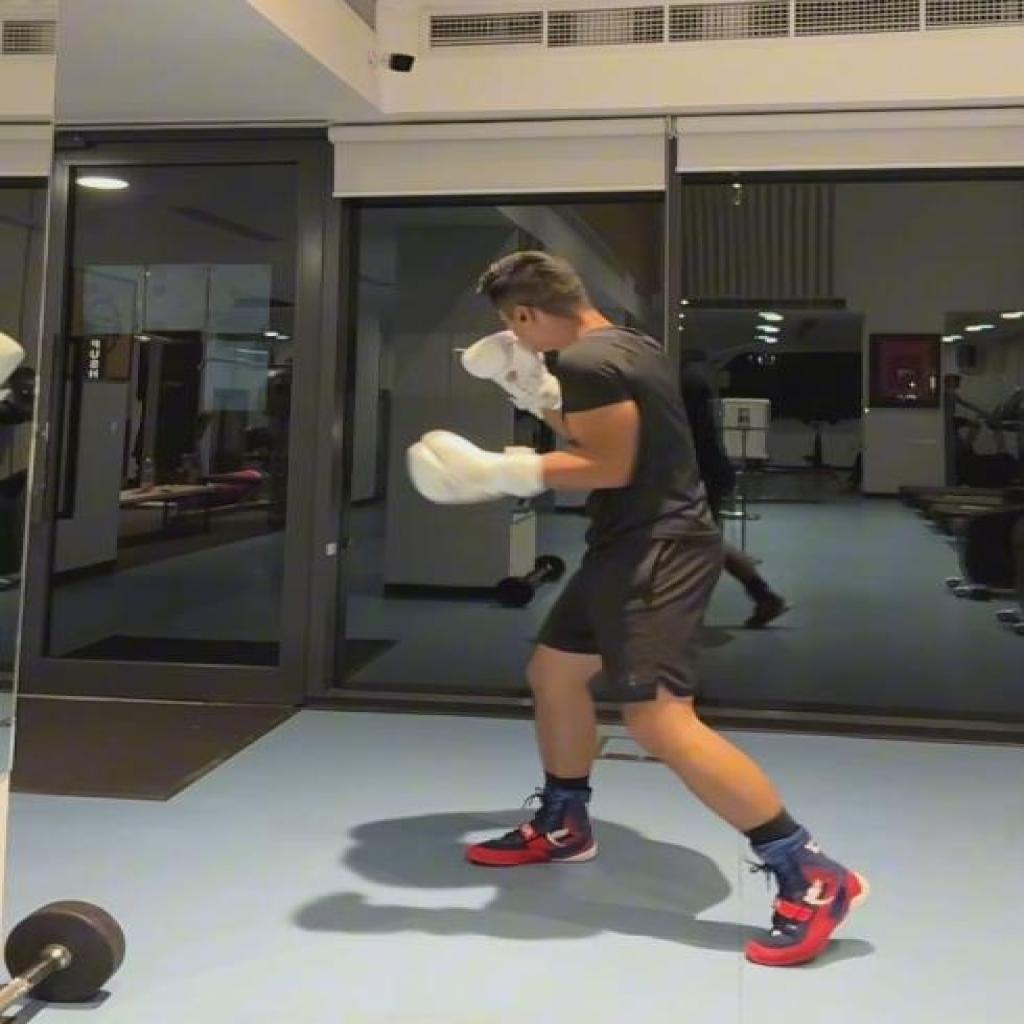uppercut: (408, 253, 874, 968)
